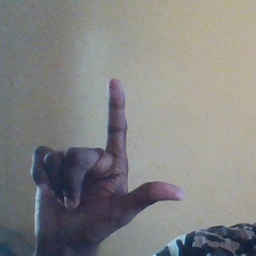L: (25, 77, 184, 243)
